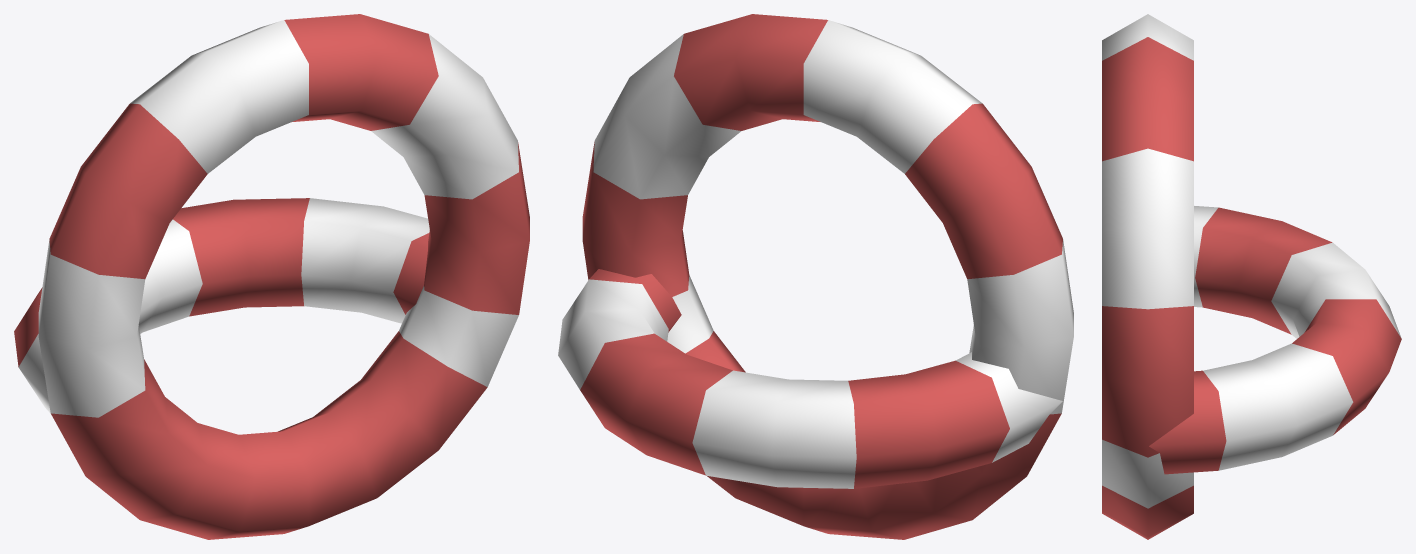
Rendered from But Rouge.fbx.
The picture shows the model from 3 angles, left to right: view 1: azimuth 30°, elevation 25°; view 2: azimuth 150°, elevation 25°; view 3: azimuth 270°, elevation 25°; orthographic projection. The views are drawn at different scales.
Parts seen in each view (by area): view 1: But rouge, But rouge .001; view 2: But rouge, But rouge .001; view 3: But rouge, But rouge .001.
Part boxes in pixels (x1=…): But rouge: x1=38, y1=14, x2=529, y2=539; But rouge .001: x1=14, y1=198, x2=429, y2=413; But rouge: x1=582, y1=14, x2=1073, y2=539; But rouge .001: x1=558, y1=269, x2=1062, y2=488; But rouge: x1=1102, y1=14, x2=1193, y2=539; But rouge .001: x1=1149, y1=206, x2=1401, y2=474.
Size of the model in its own units: 369 by 653 by 653.
